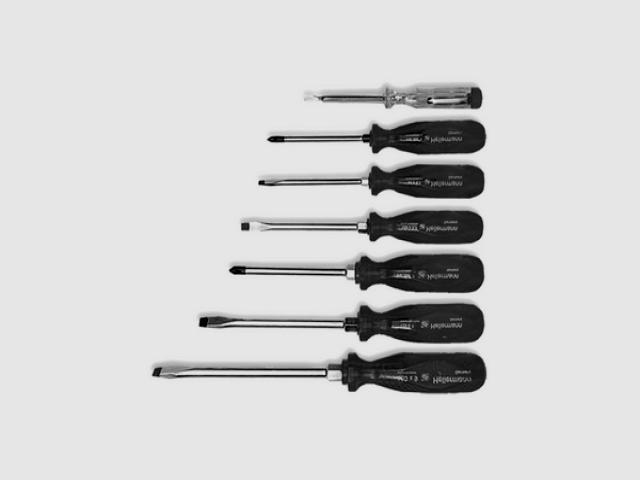Screwdriver: (152, 353, 486, 394), (199, 304, 484, 343), (230, 255, 484, 292), (241, 211, 484, 244), (259, 165, 485, 199), (268, 121, 486, 155), (305, 87, 482, 110)
